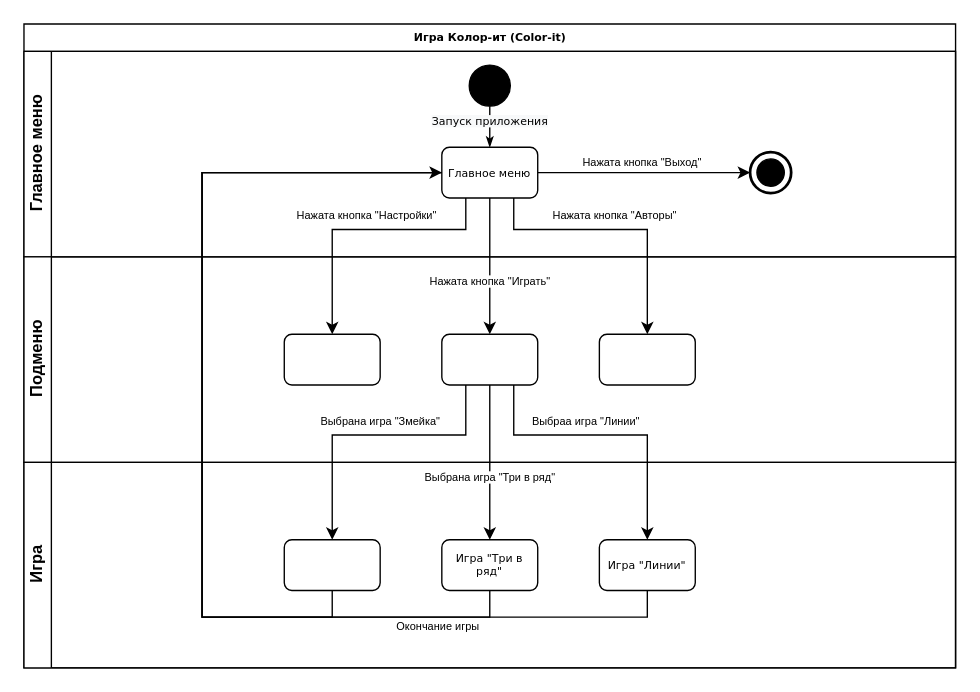
This 980x692 diagram has some shape labels left out. The shapes that lost their labels are listed below. From the top down, each one's centre as x and y in pixels, then its label:
(331,359): Меню настроек
(489,359): Выбор игры
(646,359): Просмотр информации о разработчиках
(331,564): Игра "Змейка"
